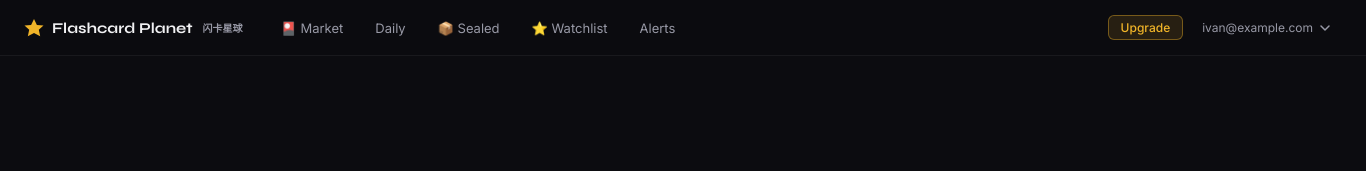
it: NavBar avatar dropdown › closes dropdown when clicking outside
Click the button "ivan@example.com": (1267, 28) [1191,14,1342,41]
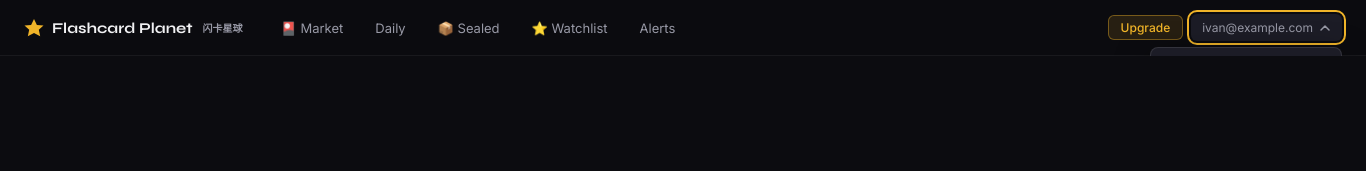
Expected: the menu is shown, [1150,47,1342,154]
# Click somewhere outside the dropdown
Press the mouse on the element that starts with "Flashcard Planet": (683, 28) [0,0,1365,56]
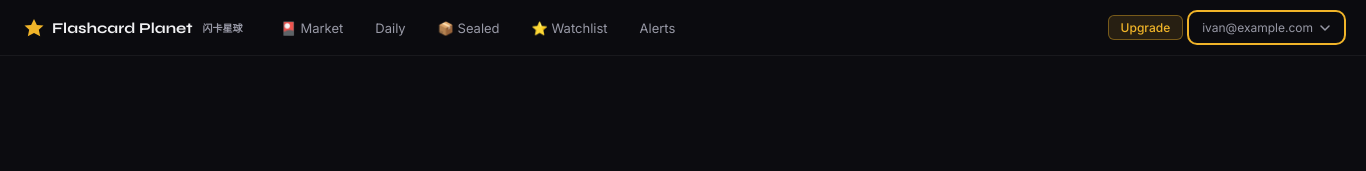
Expected: the menu is gone
